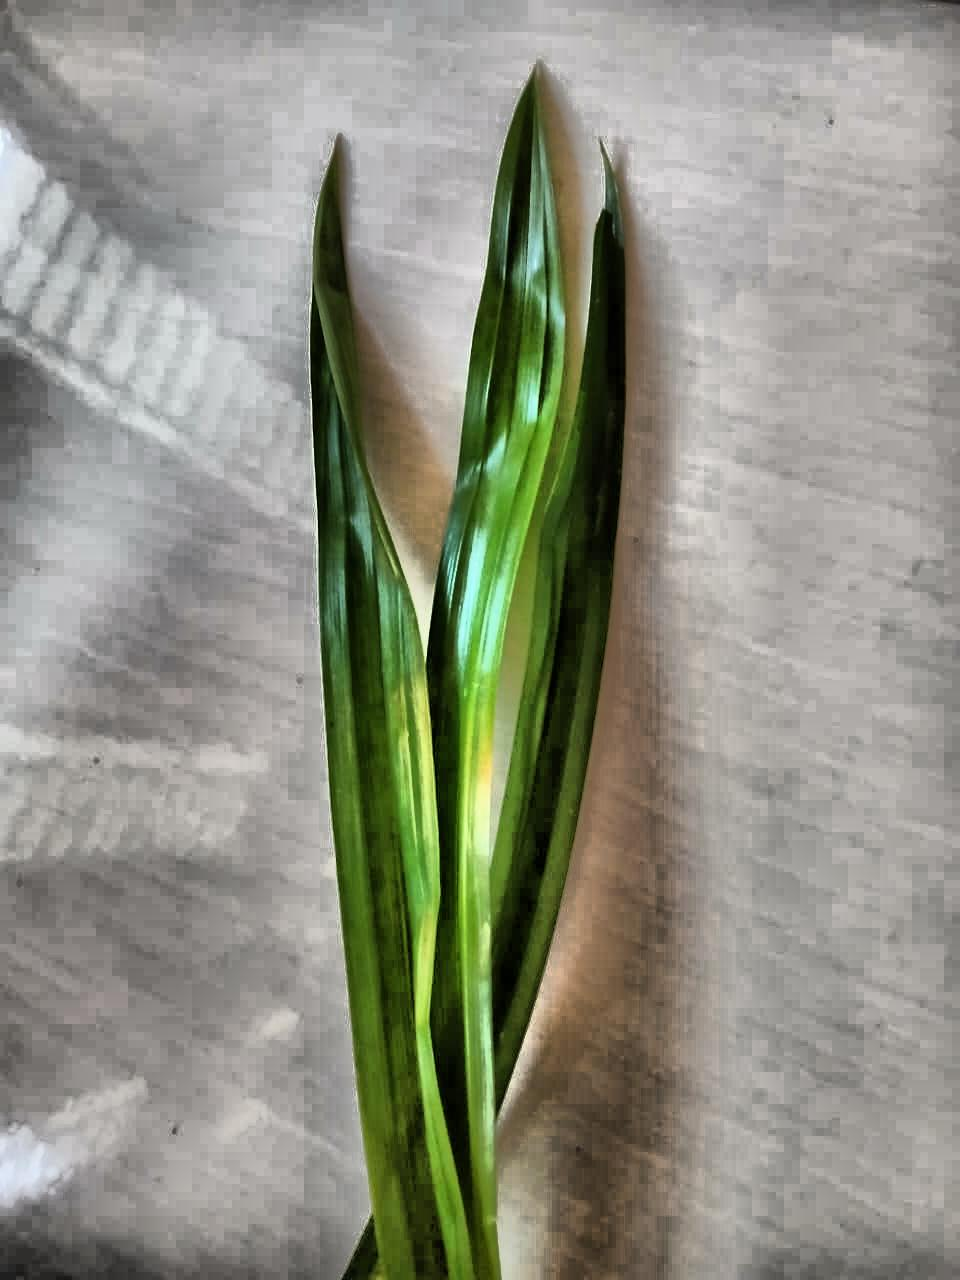daun pandan: (310, 74, 626, 1279)
